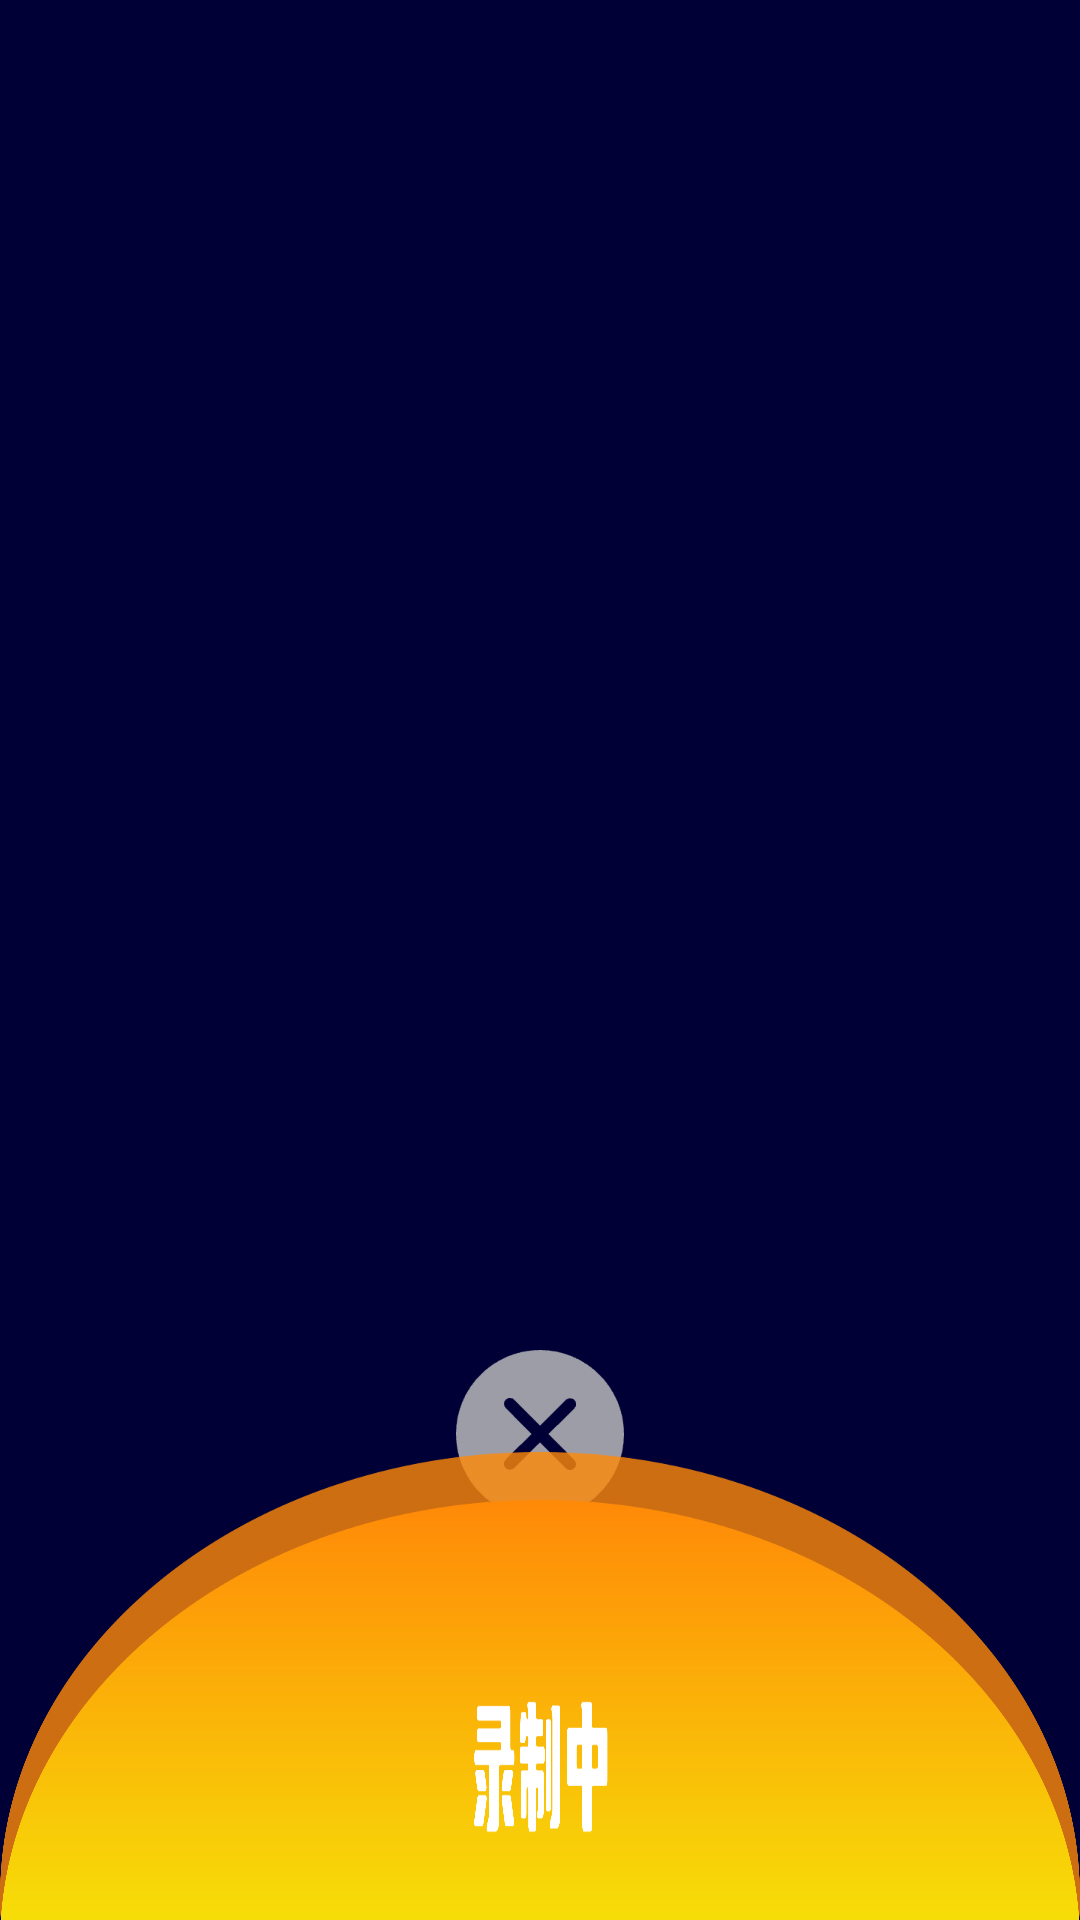

Icon click points for this 1080 × 1920 phone screenshot, format point (x, y):
ai speech close: point (540, 1434)
